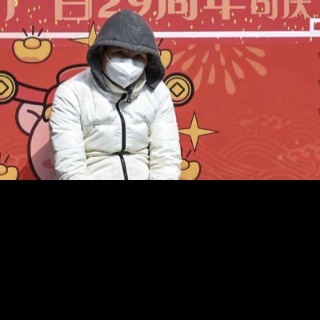with_mask: (100, 47, 147, 91)
